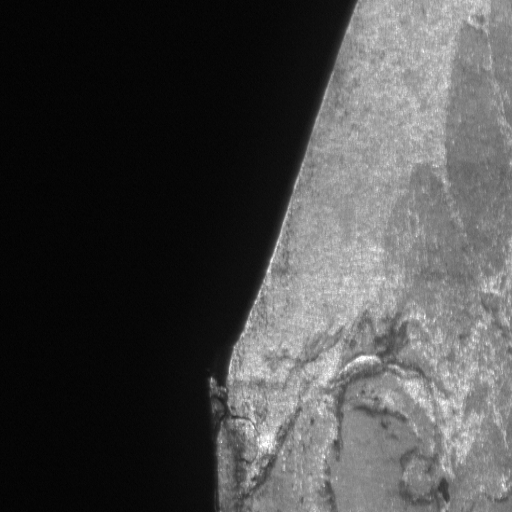aokeng: (313, 353, 454, 512)
